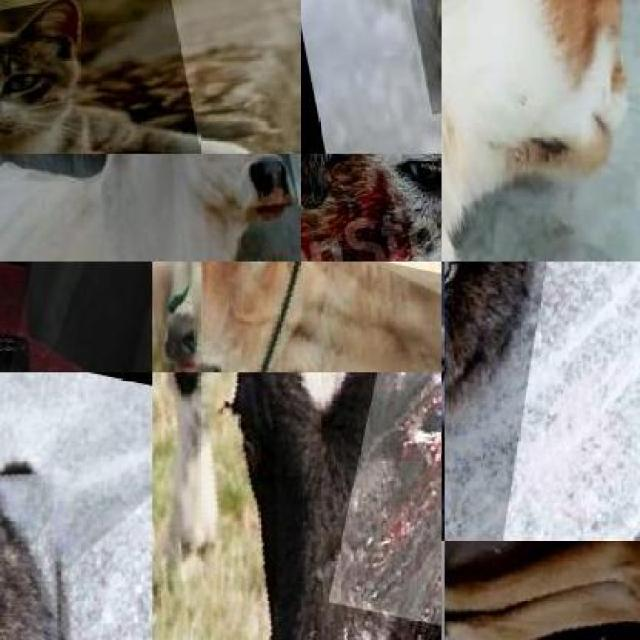cat: (441, 0, 640, 261), (444, 262, 568, 540), (0, 0, 212, 154), (0, 441, 126, 640)
cow: (152, 372, 442, 640), (0, 154, 300, 261), (152, 262, 442, 372)
dog: (444, 540, 640, 640)
injured: (328, 372, 442, 636), (300, 189, 442, 262)
